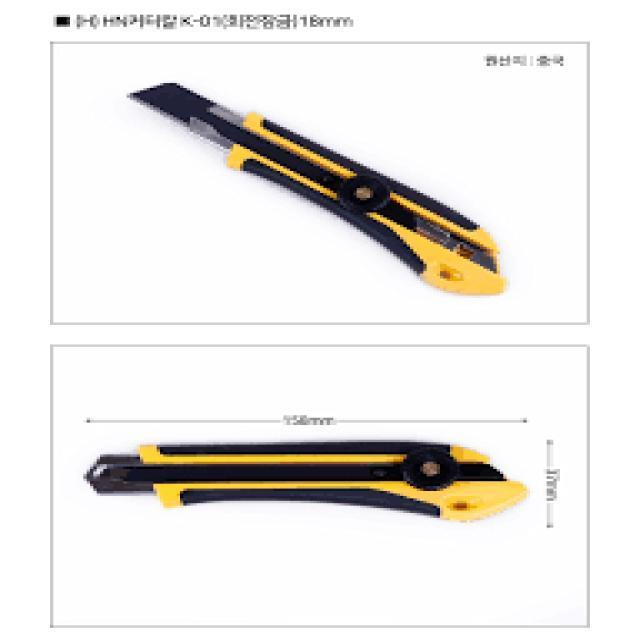cutter: (114, 70, 515, 303), (76, 436, 536, 536)
